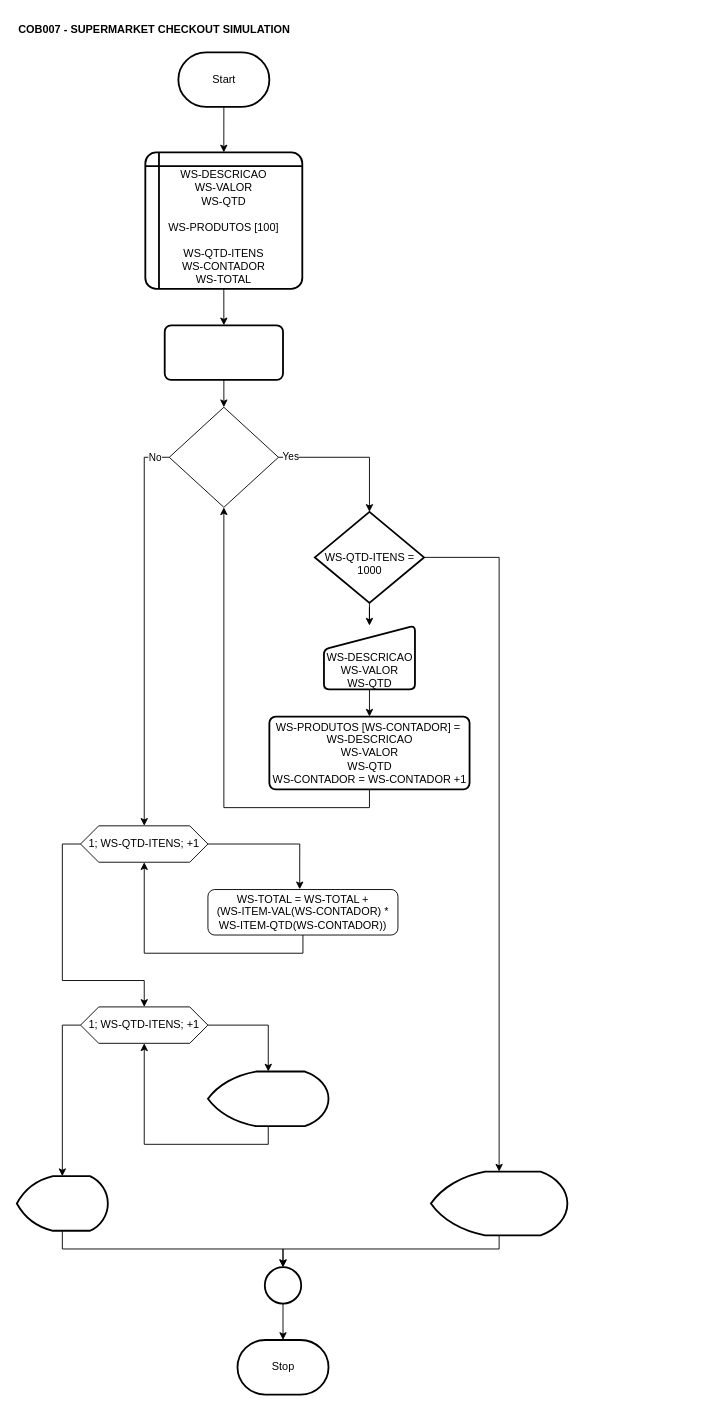
Some shapes in this 723 by 1411 pixel diagram are drawn without their labels. Here are the shapes that lost their labels. From the top down, the centre of each, then its label:
(x=223, y=352): WS-DESCRICAO = 'X' WS-TOTAL = 0
(x=223, y=456): WS-DESCRICAO <> SPACES
(x=268, y=1098): WS-ITEM-DESC(WS-CONTADOR)
(x=61, y=1203): WS-TOTAL
(x=499, y=1203): O QUANTITA TIVO DE ITENS E MAIOR QUE O SUPORTADO.
